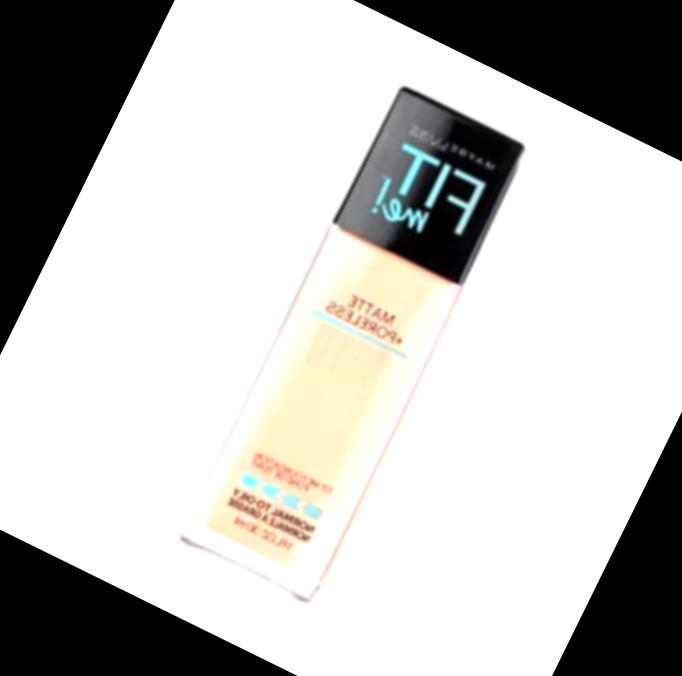cosmetic: (170, 82, 528, 611)
